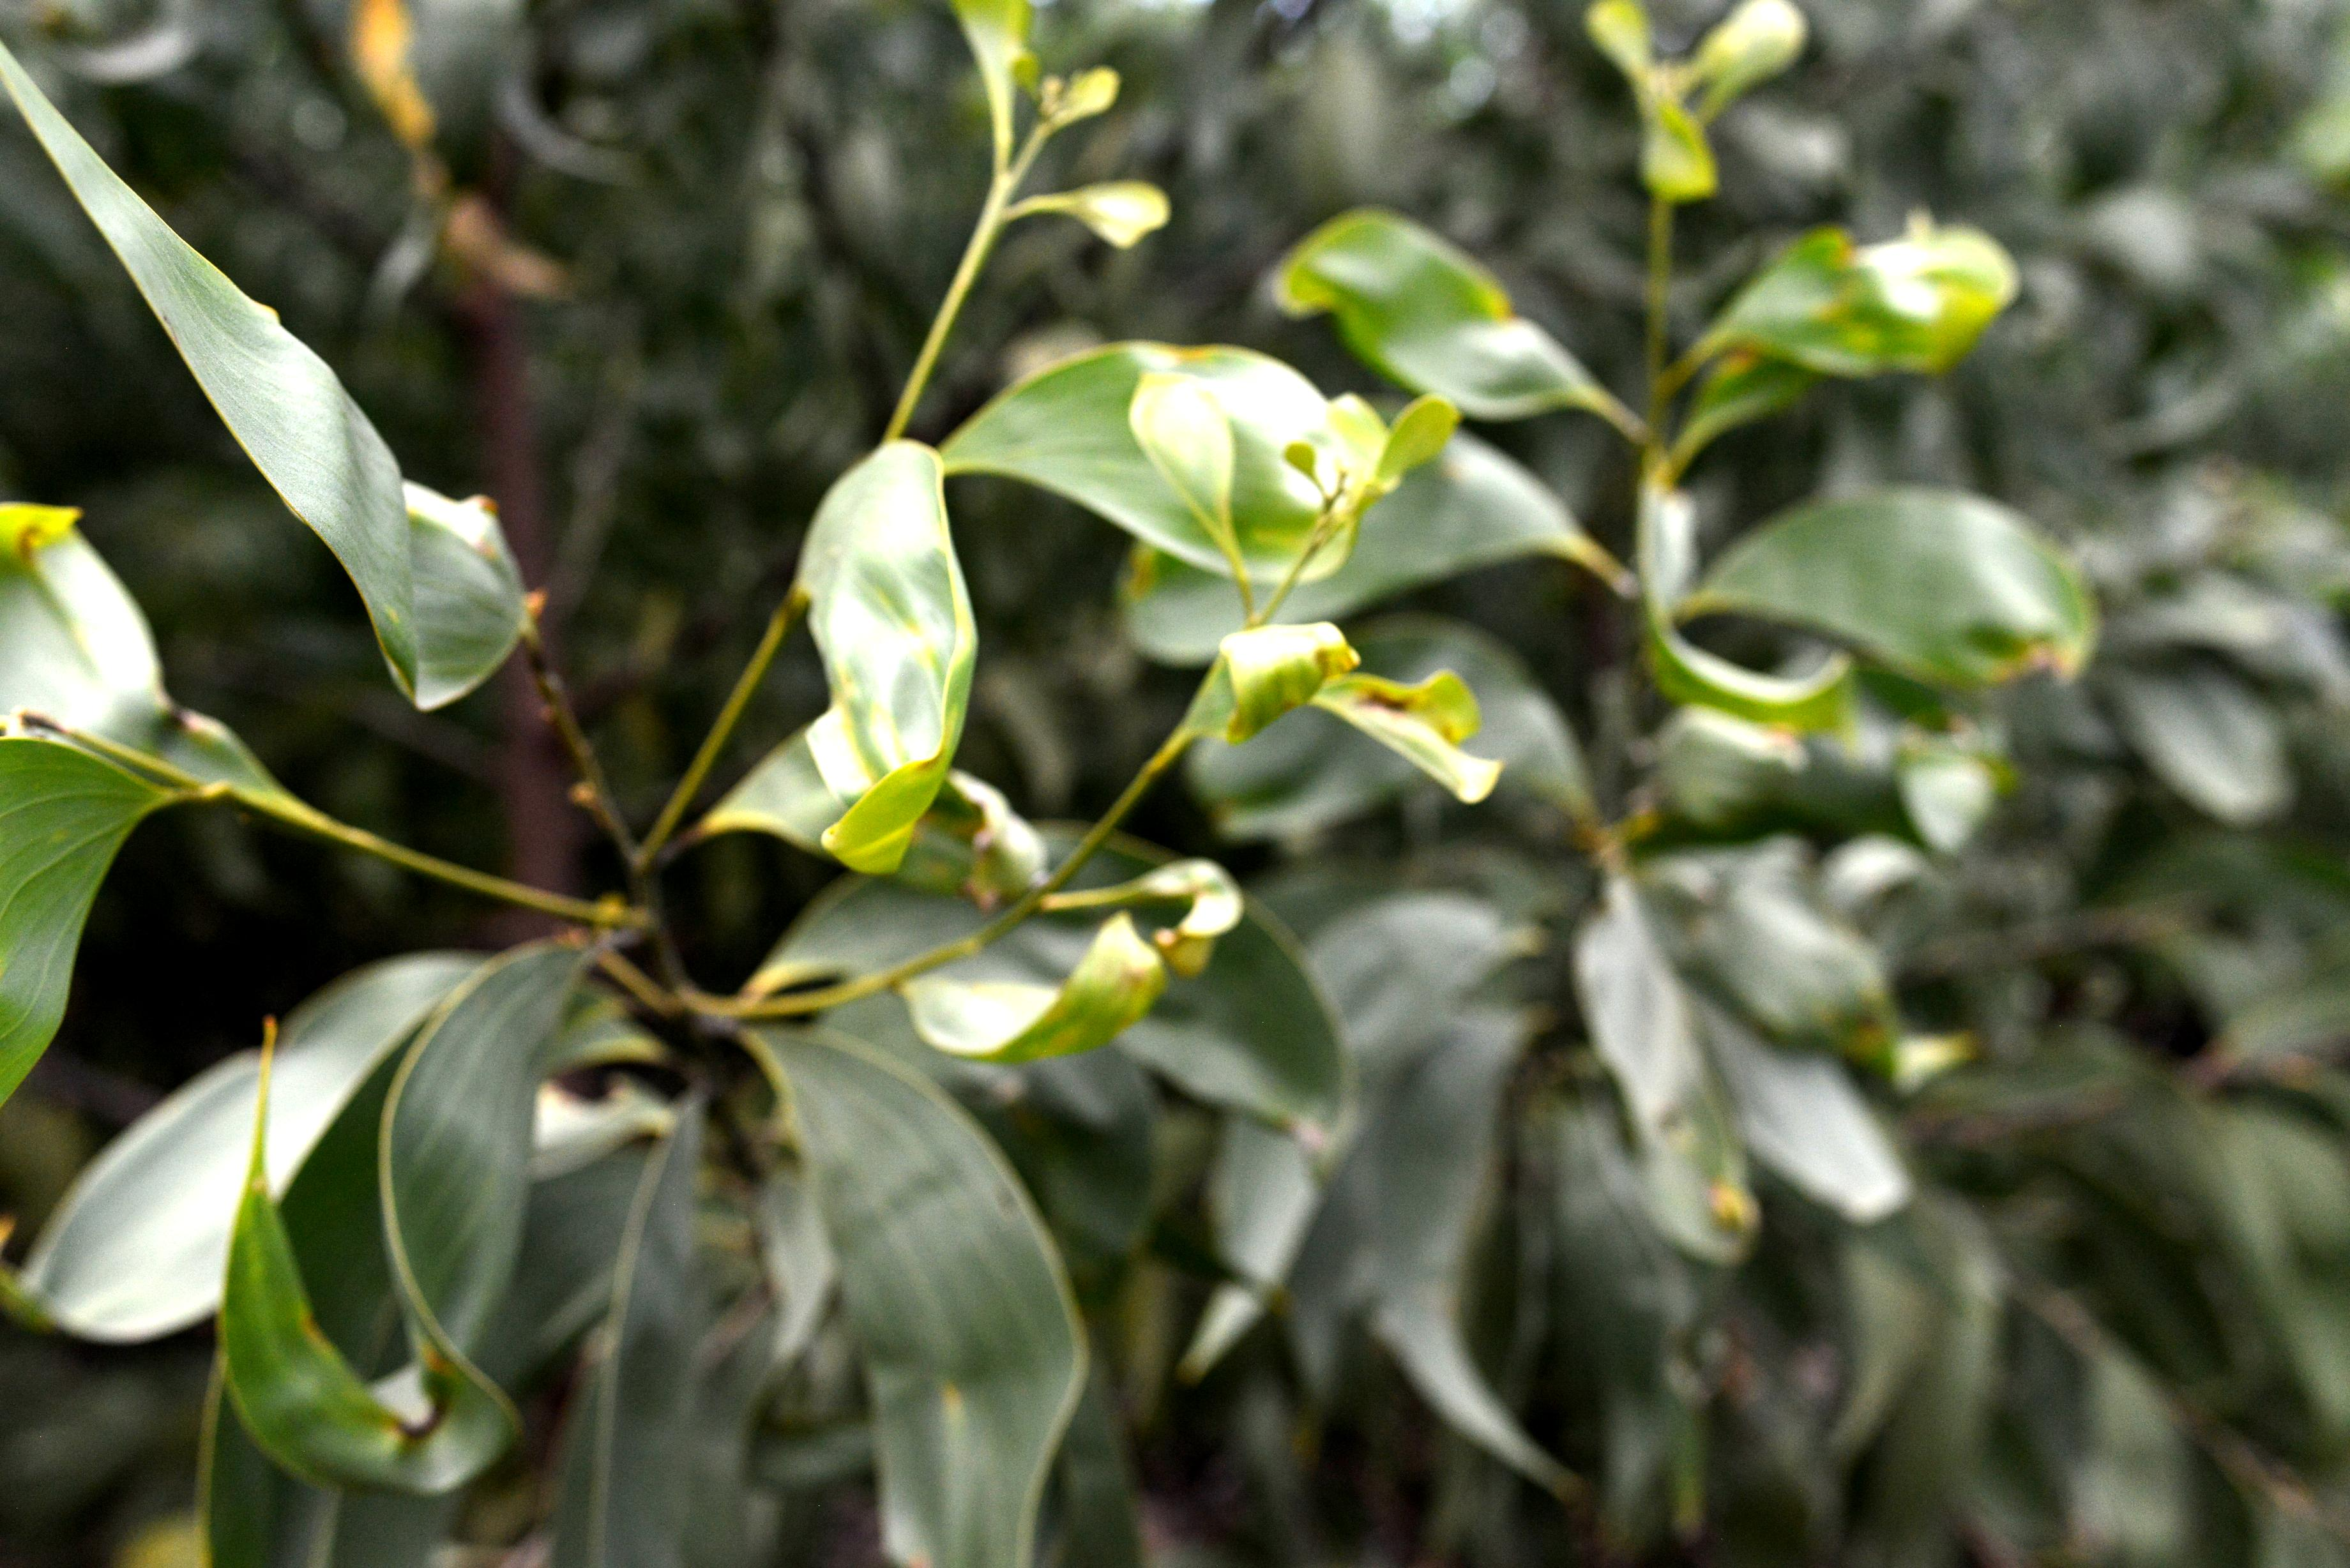Pasalora: (0, 0, 595, 712), (220, 933, 609, 1510), (1675, 437, 2124, 758), (0, 495, 266, 987), (728, 429, 992, 903), (1010, 320, 1356, 590), (1596, 864, 1785, 1286), (1284, 212, 1629, 425), (929, 0, 1223, 247), (1685, 217, 2039, 408), (1521, 0, 1841, 206), (919, 910, 1150, 1067), (1319, 668, 1517, 817), (1185, 611, 1358, 747), (1053, 875, 1258, 983), (940, 770, 1059, 913)
